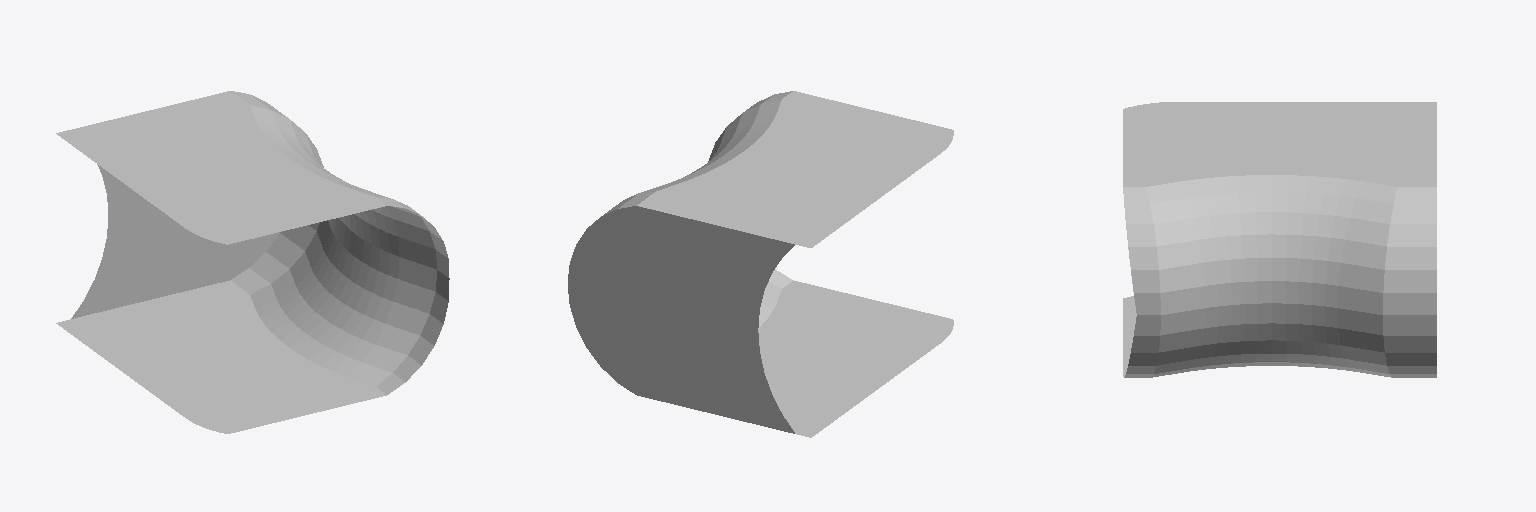
The model's file is trigger.obj.
3 views of the same model, side by side, from view 1: azimuth 30°, elevation 25°; view 2: azimuth 150°, elevation 25°; view 3: azimuth 270°, elevation 25° (orthographic).
Parts seen in each view (by area): view 1: trigger_ID1172; view 2: trigger_ID1172; view 3: trigger_ID1172.
Part boxes in pixels (left/top/right/bottom): trigger_ID1172: left=56, top=91, right=449, bottom=433; trigger_ID1172: left=568, top=91, right=953, bottom=437; trigger_ID1172: left=1123, top=102, right=1436, bottom=377.
Size of the model in its own units: 0.023 by 0.0171 by 0.0257.